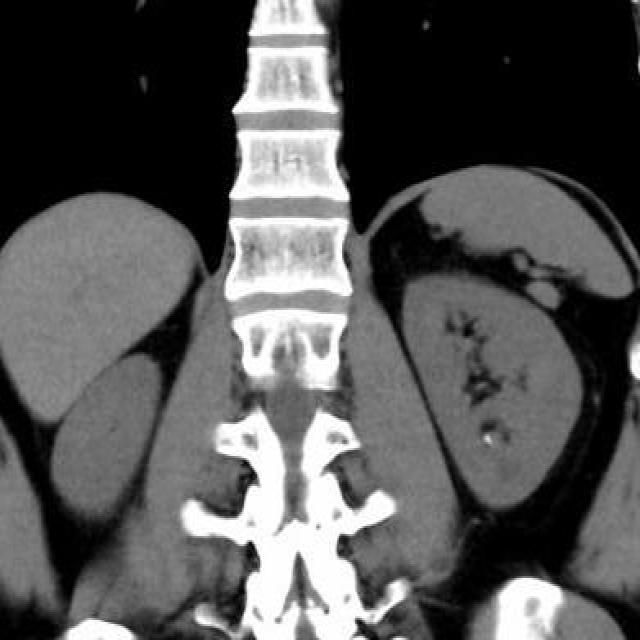Tas_Var: (482, 431, 495, 447)
